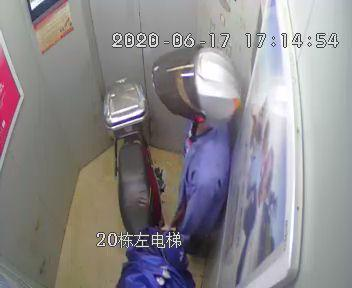Electric-bicycle: (99, 76, 176, 287)
